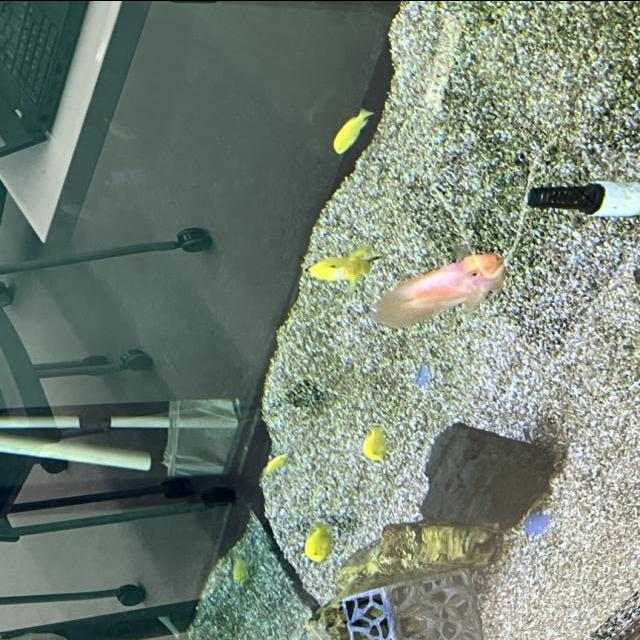YellowCichlid: (286, 242, 390, 300), (317, 99, 388, 159), (212, 543, 258, 593), (354, 414, 397, 464), (302, 514, 340, 570), (257, 439, 298, 481)
